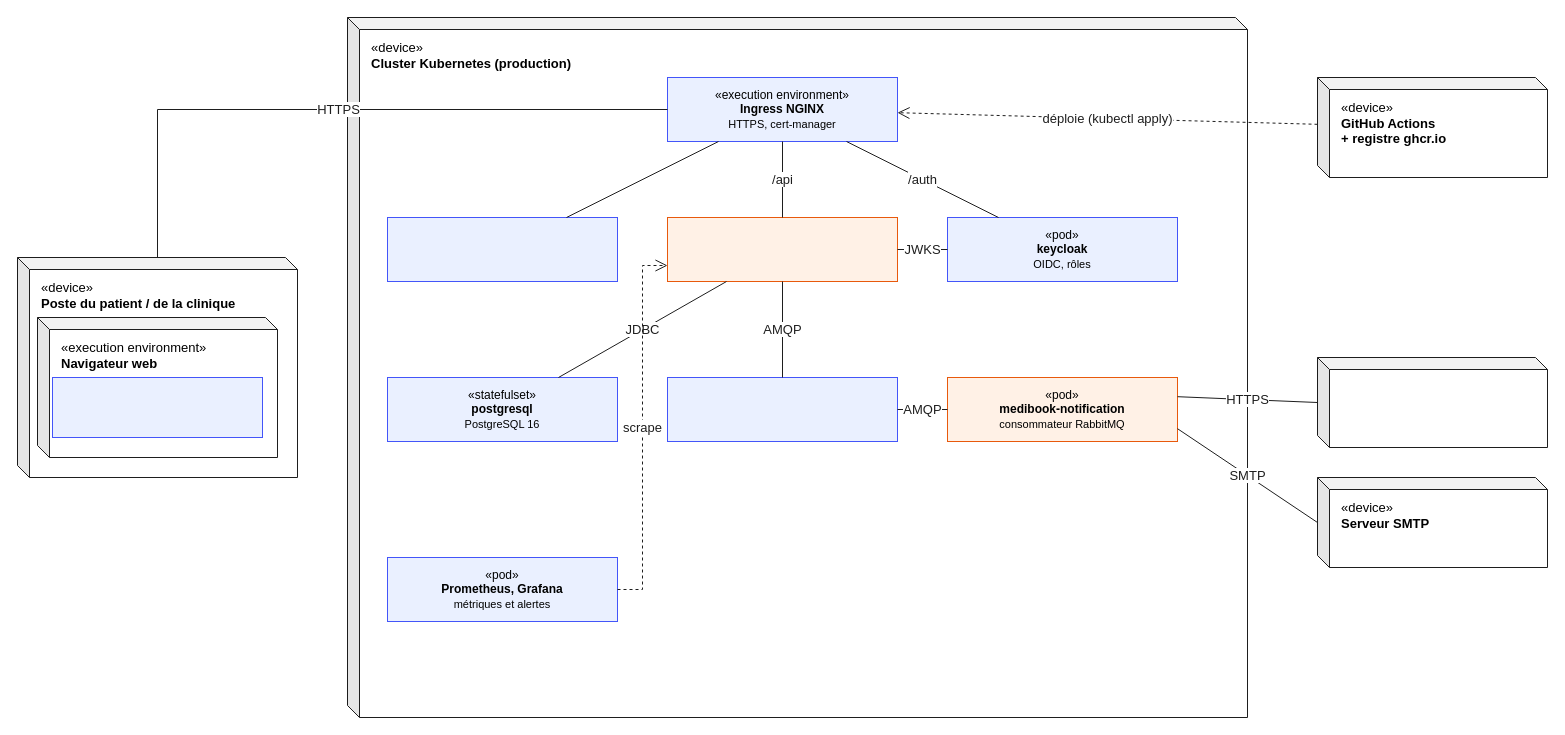
Some shapes in this 1565 by 735 pixel diagram are drawn without their labels. Here are the shapes that lost their labels. From the top down, the centre of each, then its label:
At point (502, 249): "«pod» medibook-web nginx, fichiers statiques".
At point (782, 249): "«pod» medibook-api ×2 Spring Boot 3".
At point (157, 407): "«artifact» Application React SPA (patient, clinique, admin)".
At point (782, 409): "«statefulset» rabbitmq files de rappels".
At point (1432, 402): "«device» Fournisseur SMS".
